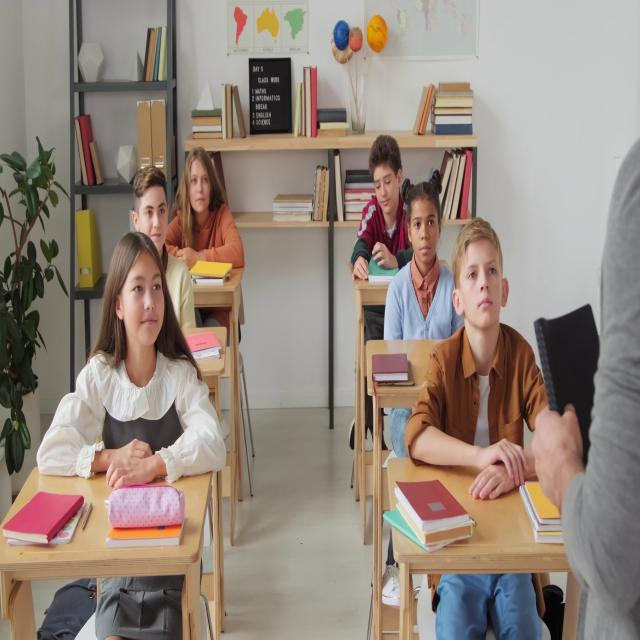listening: (403, 224, 554, 635), (40, 234, 230, 482), (165, 146, 245, 344), (383, 177, 461, 347), (133, 167, 199, 331)
reading: (348, 133, 410, 285)
